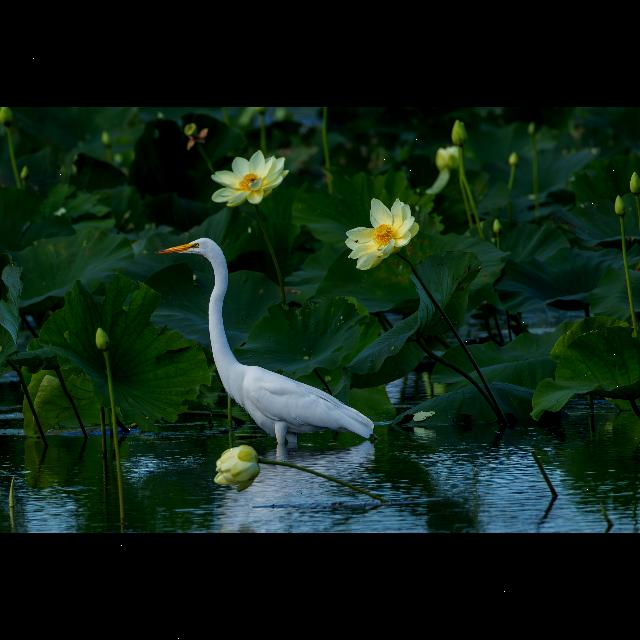egret: (153, 230, 395, 470)
